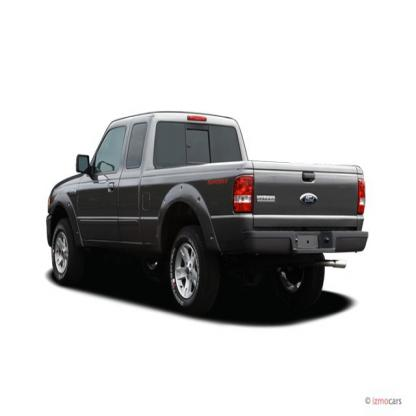Vehicle: (44, 108, 372, 315)
